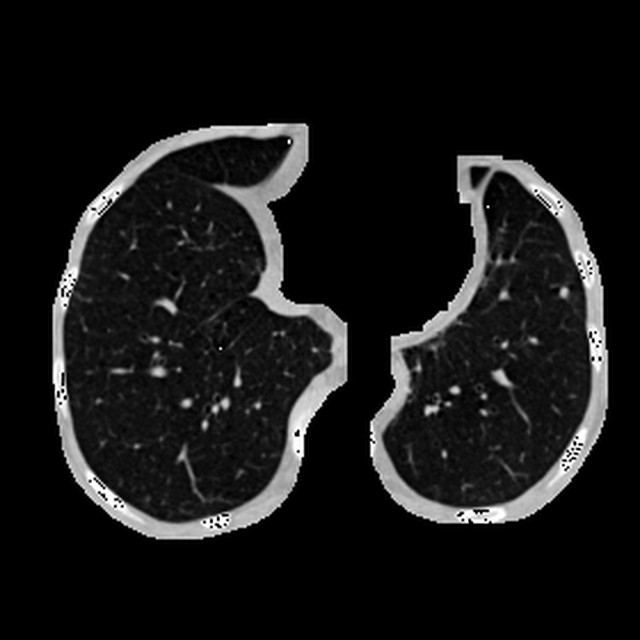PN: (560, 288, 569, 297)
